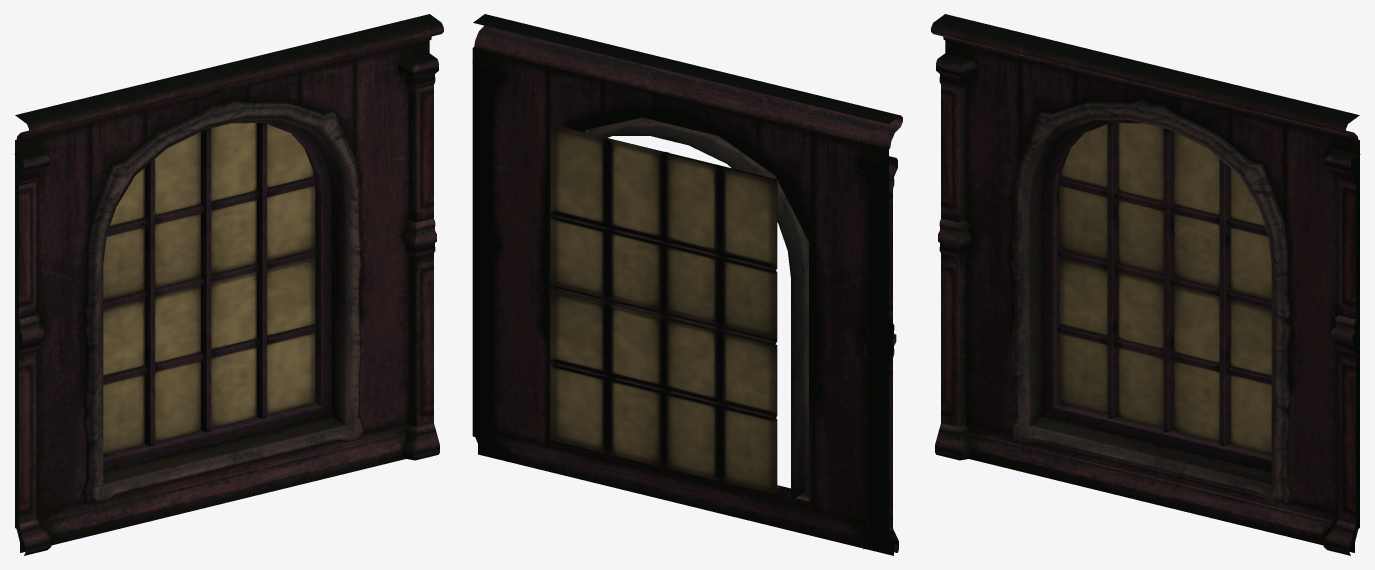
The model's file is 42_window02_large_yellow.dae.
3 renders of one model, left to right at view 1: azimuth 30°, elevation 25°; view 2: azimuth 150°, elevation 25°; view 3: azimuth 330°, elevation 25°, orthographic.
Visible parts, largest first — view 1: window02_large_blue1, window02_large_frame3, window02_large_glass_yellow4; view 2: window02_large_blue1, window02_large_glass_yellow4, window02_large_frame3; view 3: window02_large_blue1, window02_large_frame3, window02_large_glass_yellow4.
Part boxes in pixels (x1,y1,x2,y2): window02_large_blue1: (14,14,443,555); window02_large_frame3: (82,100,363,504); window02_large_glass_yellow4: (103,123,315,454); window02_large_blue1: (472,14,902,555); window02_large_glass_yellow4: (550,124,777,496); window02_large_frame3: (540,110,820,514); window02_large_blue1: (931,14,1360,555); window02_large_frame3: (1011,100,1292,504); window02_large_glass_yellow4: (1059,123,1271,454).
Bounding box in the file's own units: 4 × 4 × 0.5209.
3 materials, 3 textured.
